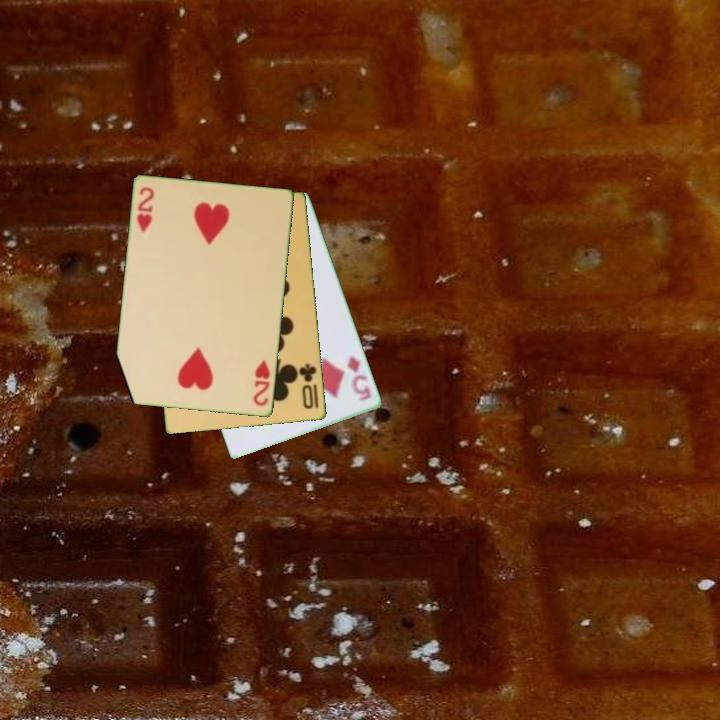10c: (296, 360, 320, 412)
2h: (250, 357, 273, 409), (134, 184, 157, 235)
5d: (343, 352, 374, 404)
